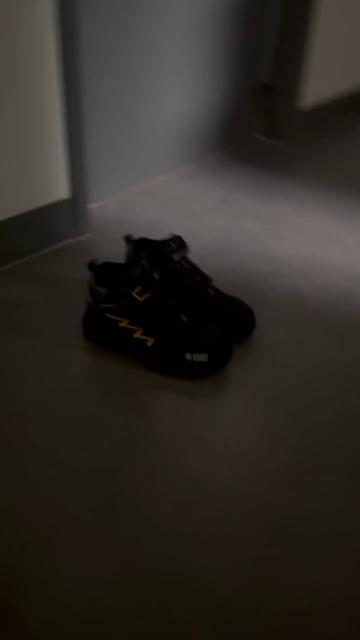shoe_worn: (77, 259, 235, 384), (122, 234, 261, 351)
